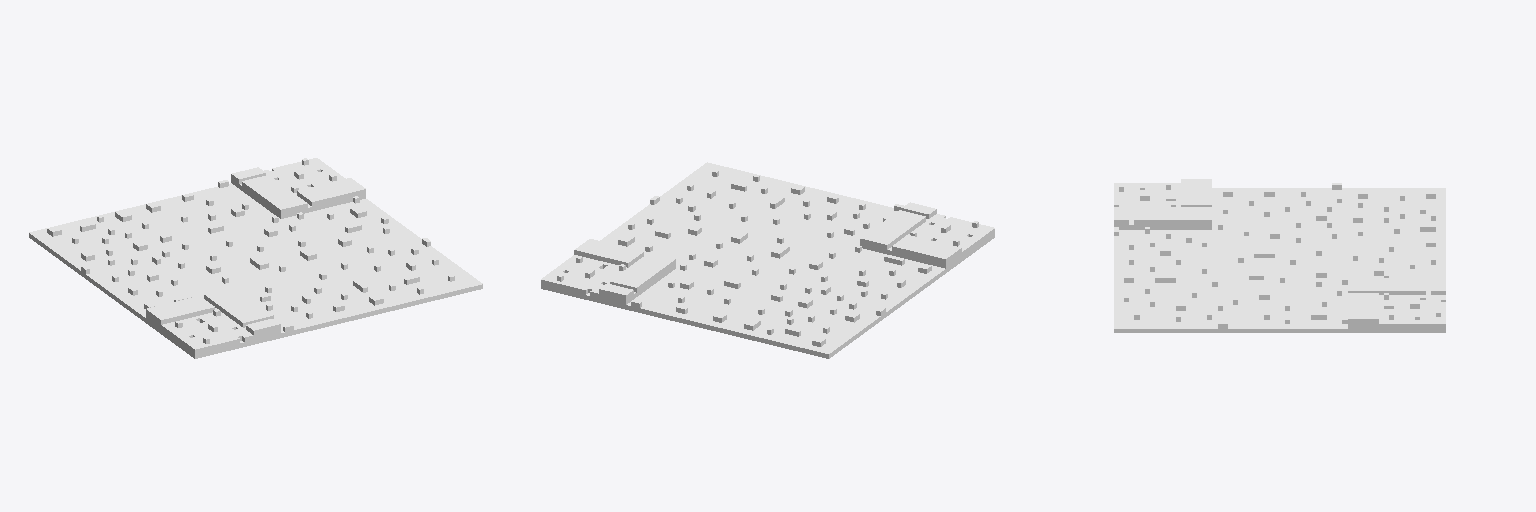
File: EarthenPath4Fork_4.obj
3 renders of one model, left to right at view 1: azimuth 30°, elevation 25°; view 2: azimuth 150°, elevation 25°; view 3: azimuth 270°, elevation 25°, orthographic.
Visible parts, largest first — view 1: EarthenPath4Fork_4; view 2: EarthenPath4Fork_4; view 3: EarthenPath4Fork_4.
Part boxes in pixels (x1,y1,x2,y2): EarthenPath4Fork_4: (29,158,482,358); EarthenPath4Fork_4: (541,162,994,358); EarthenPath4Fork_4: (1114,179,1445,332).
Bounding box in the file's own units: 1 × 0.0469 × 1.